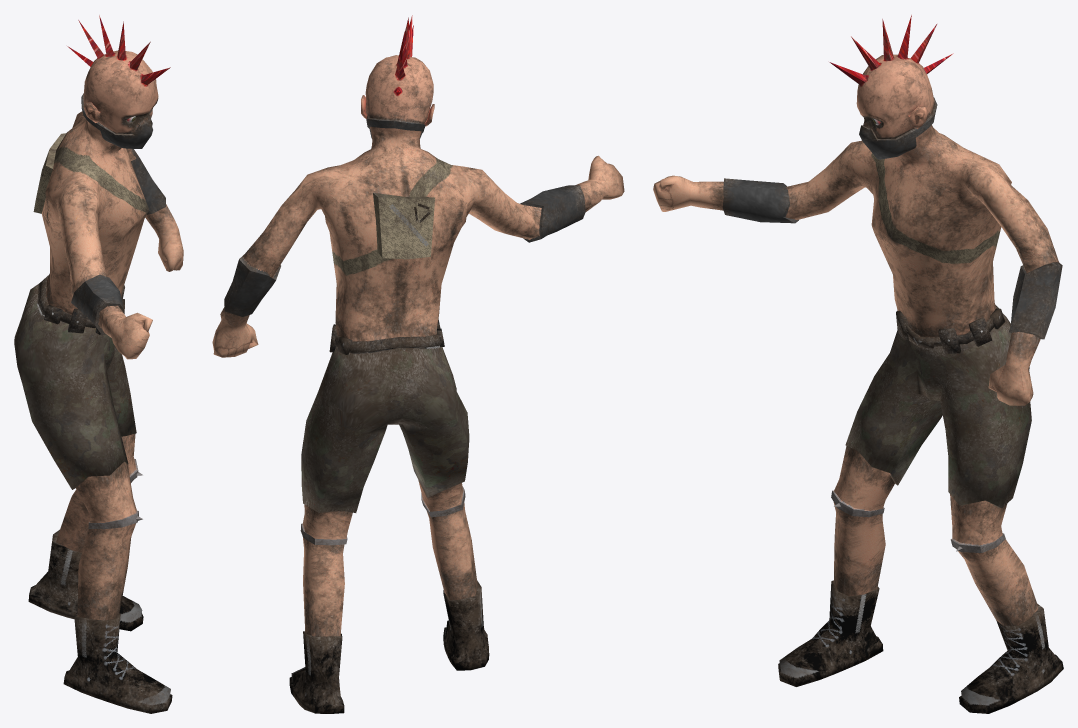
Rendered from Anim_interruptor_npc2.0025.obj.
3 views of the same model, side by side, from view 1: azimuth 30°, elevation 25°; view 2: azimuth 150°, elevation 25°; view 3: azimuth 270°, elevation 25° (orthographic). The views are drawn at different scales.
Parts seen in each view (by area): view 1: polySurface1; view 2: polySurface1; view 3: polySurface1.
Boxes of the visible parts, bbox=[...] form: polySurface1: bbox=[14, 15, 183, 713]; polySurface1: bbox=[212, 15, 624, 713]; polySurface1: bbox=[653, 15, 1063, 713].
Size of the model in its own units: 3.77 by 9.92 by 5.54.
